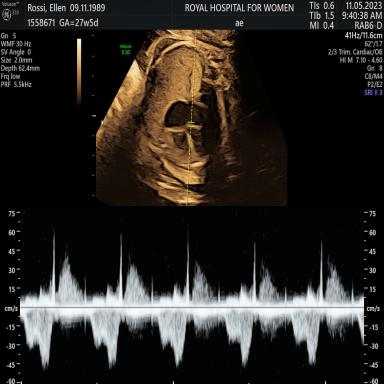Ultrasound-Waves: (24, 213, 363, 384)
